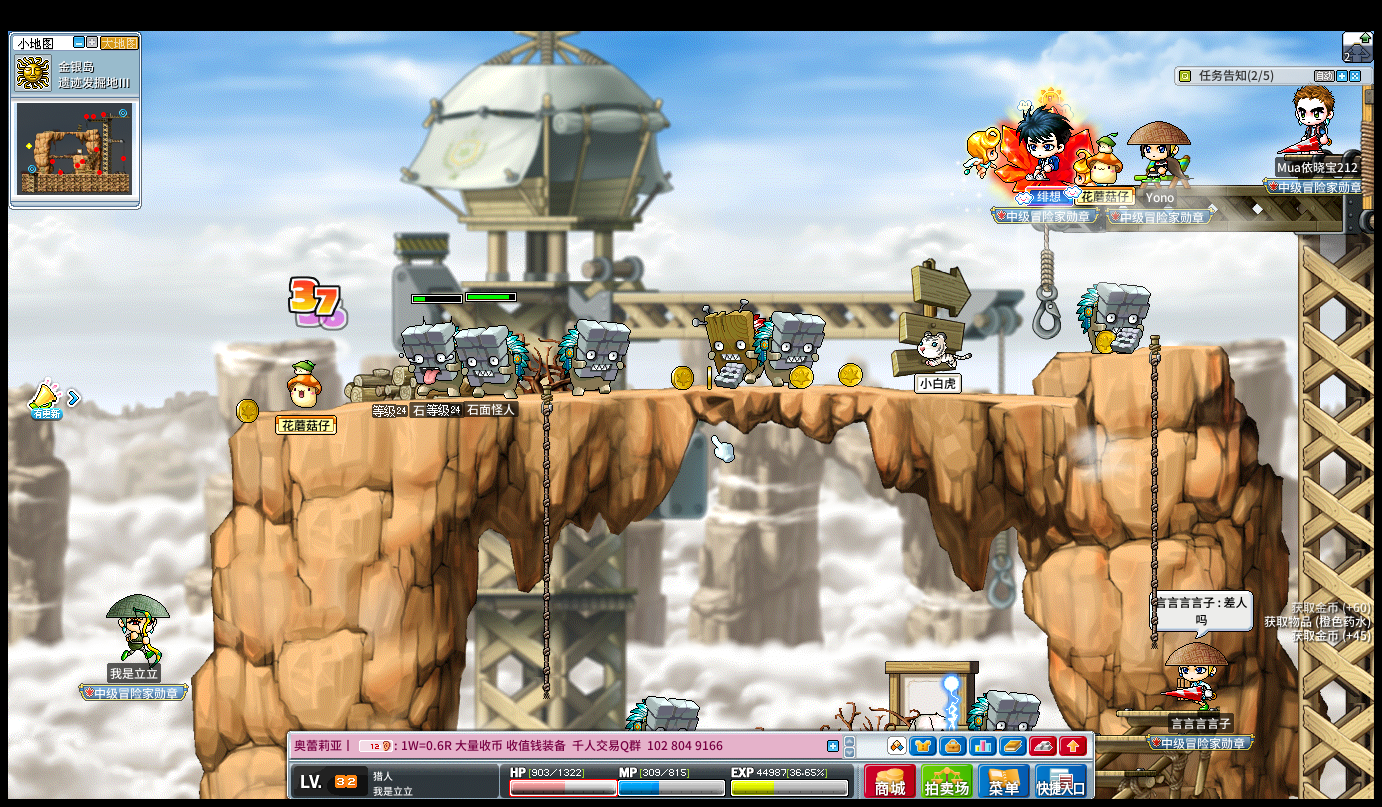floor: (257, 382, 1125, 410), (298, 381, 1087, 404), (1060, 343, 1231, 358)
monster: (555, 319, 631, 396), (754, 309, 826, 388), (1076, 280, 1151, 355), (697, 304, 759, 389), (458, 324, 528, 397), (399, 321, 461, 396)
rope: (538, 378, 551, 722), (1146, 330, 1160, 639), (540, 383, 552, 664), (1040, 222, 1054, 308)
